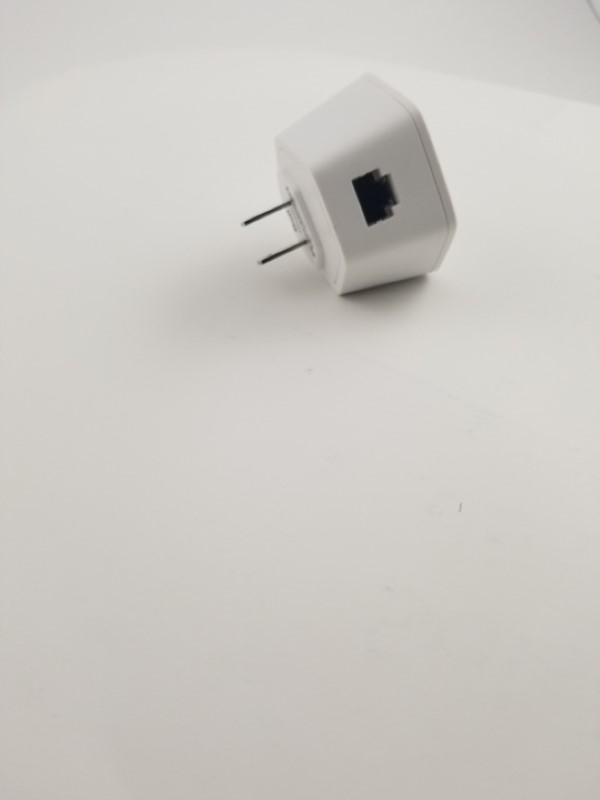pod: (233, 66, 464, 309)
